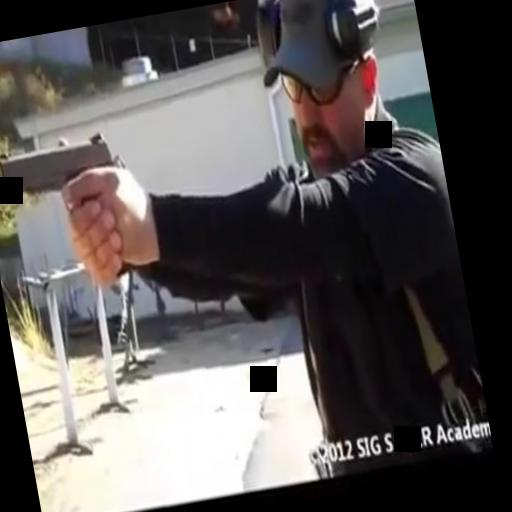Handgun: (0, 127, 139, 294)
